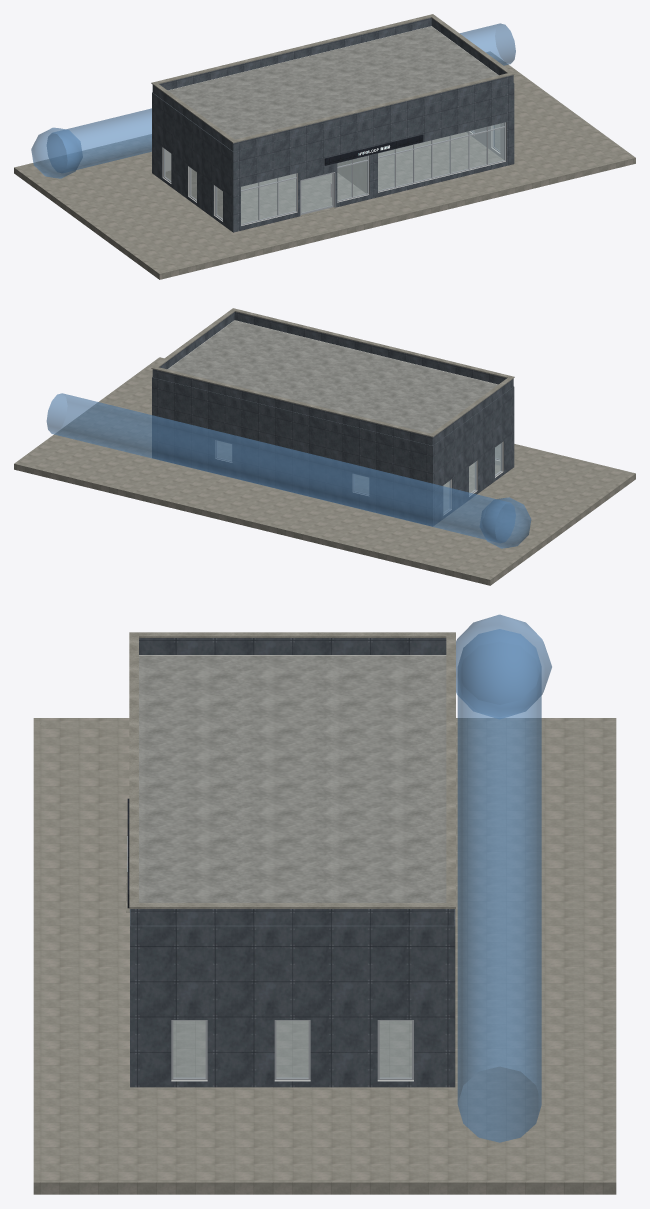
File: b_hyperloop_station.gltf
The picture shows the model from 3 angles, top to bottom: view 1: azimuth 30°, elevation 25°; view 2: azimuth 150°, elevation 25°; view 3: azimuth 270°, elevation 25°; orthographic projection. The views are drawn at different scales.
Visible parts, largest first — view 1: S_hyperloop_station, D_hyperloop_station_F1_S3_Door0; view 2: S_hyperloop_station; view 3: S_hyperloop_station.
Part boxes in pixels (x1,y1,x2,y2): S_hyperloop_station: (14,14,635,279); D_hyperloop_station_F1_S3_Door0: (301,173,333,214); S_hyperloop_station: (14,308,635,585); S_hyperloop_station: (33,614,616,1194).
Bounding box in the file's own units: 34.62 × 6.56 × 18.
15 materials, 8 textured.
